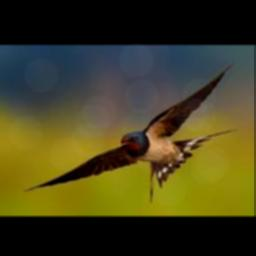Swallow: (24, 62, 237, 202)
